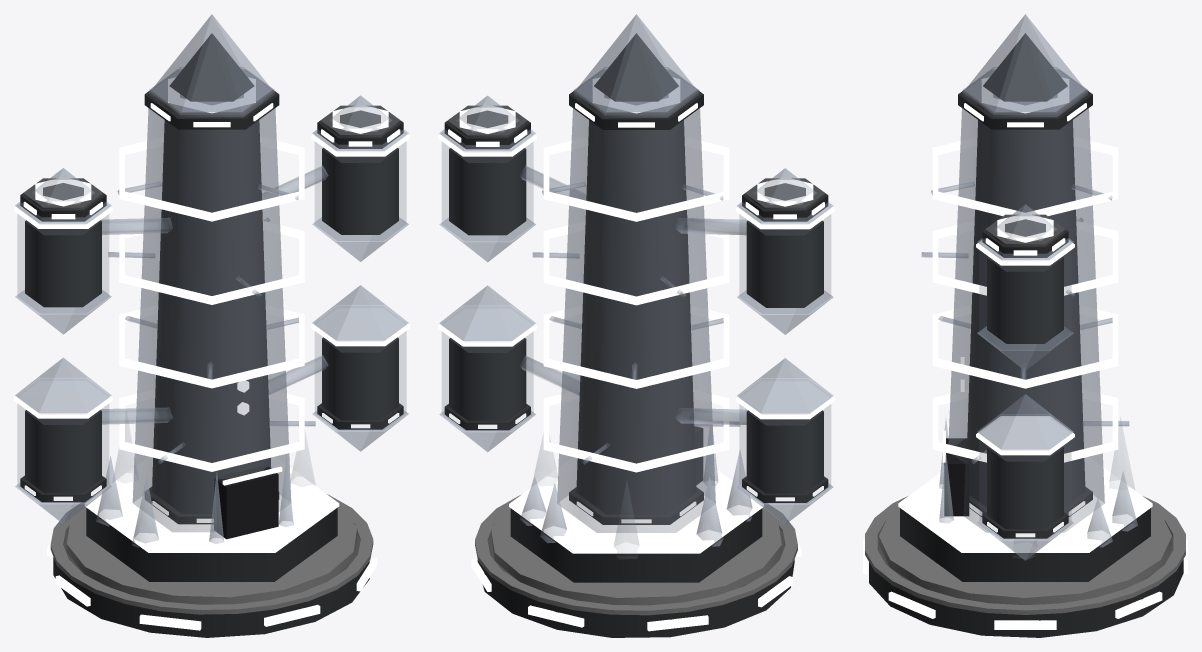
The model's file is Skin_Crystal_T3.glb.
3 views of the same model, side by side, from view 1: azimuth 30°, elevation 25°; view 2: azimuth 150°, elevation 25°; view 3: azimuth 270°, elevation 25° (orthographic).
Parts seen in each view (by area): view 1: Skin_Crystal_T3; view 2: Skin_Crystal_T3; view 3: Skin_Crystal_T3.
Part boxes in pixels (x1,y1,x2,y2): Skin_Crystal_T3: (14,14,409,637); Skin_Crystal_T3: (438,14,834,637); Skin_Crystal_T3: (863,14,1187,637).
Bounding box in the file's own units: 5.12 × 7.34 × 3.88.
